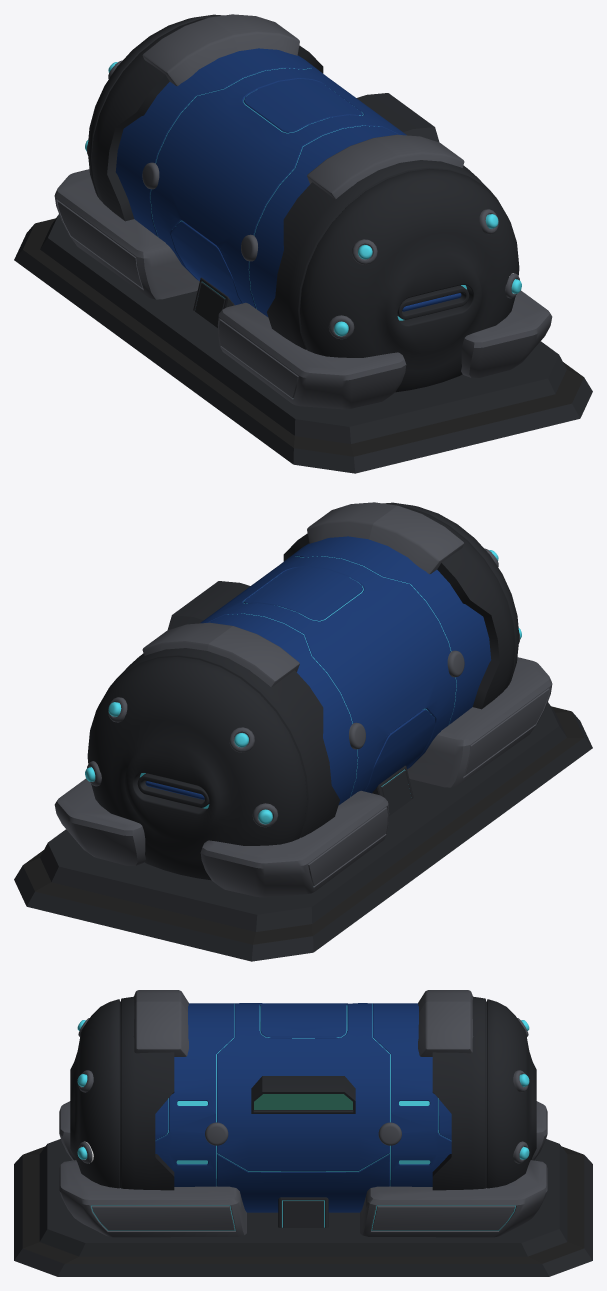
Rendered from Бочка.fbx.
3 views of the same model, one above another, from view 1: azimuth 30°, elevation 25°; view 2: azimuth 150°, elevation 25°; view 3: azimuth 270°, elevation 25° (orthographic). The views are drawn at different scales.
Parts seen in each view (by area): view 1: Cylinder.001, Cylinder, Plane, Cube, Cylinder.002, Cube.001, Cube.002, Cylinder.007, Cylinder.005, Cylinder.003; view 2: Cylinder.001, Cylinder, Plane, Cube, Cylinder.002, Cube.001, Cube.002, Cylinder.007, Cylinder.005, Cylinder.003; view 3: Cylinder, Plane, Cylinder.001, Cube, Cylinder.002, Cube.001, Cube.002, Cylinder.003, Cylinder.007, Cylinder.005.
Boxes of the visible parts, x1,y1,x2,y2 form: Cylinder.001: (87,14,519,392); Cylinder: (115,48,406,316); Plane: (14,214,592,473); Cube: (54,169,552,409); Cylinder.002: (142,14,464,198); Cube.001: (356,93,439,142); Cube.002: (193,277,234,327); Cylinder.007: (108,60,498,264); Cylinder.005: (85,140,521,339); Cylinder.003: (142,162,257,261); Cylinder.001: (87,502,519,880); Cylinder: (200,536,491,804); Plane: (14,702,592,961); Cube: (54,657,552,897); Cylinder.002: (142,502,464,686); Cube.001: (167,581,250,630); Cube.002: (372,765,413,815); Cylinder.007: (108,548,498,752); Cylinder.005: (85,628,521,827); Cylinder.003: (349,650,464,749); Cylinder: (155,1003,451,1212); Plane: (14,1139,592,1276); Cylinder.001: (70,996,536,1190); Cube: (59,1101,547,1237); Cylinder.002: (133,990,473,1056); Cube.001: (251,1076,355,1113); Cube.002: (278,1197,328,1227); Cylinder.003: (205,1122,401,1145); Cylinder.007: (77,1018,529,1092); Cylinder.005: (77,1141,529,1163).
Size of the model in its own units: 287 by 220 by 546.
